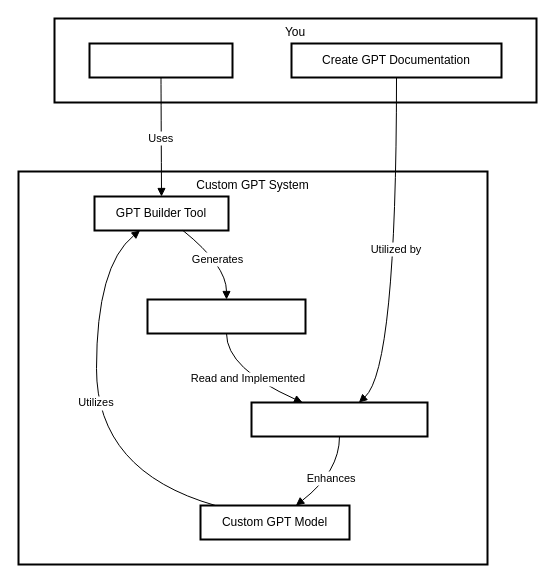
The diagram is 554 pixels wide and 582 high, and some of its shapes have lost their labels. Each missing label, with the centre of its shape:
Build Custom GPT: pixel 160 60
GPT Documentation: pixel 226 316
Utilize Documentation: pixel 339 419
